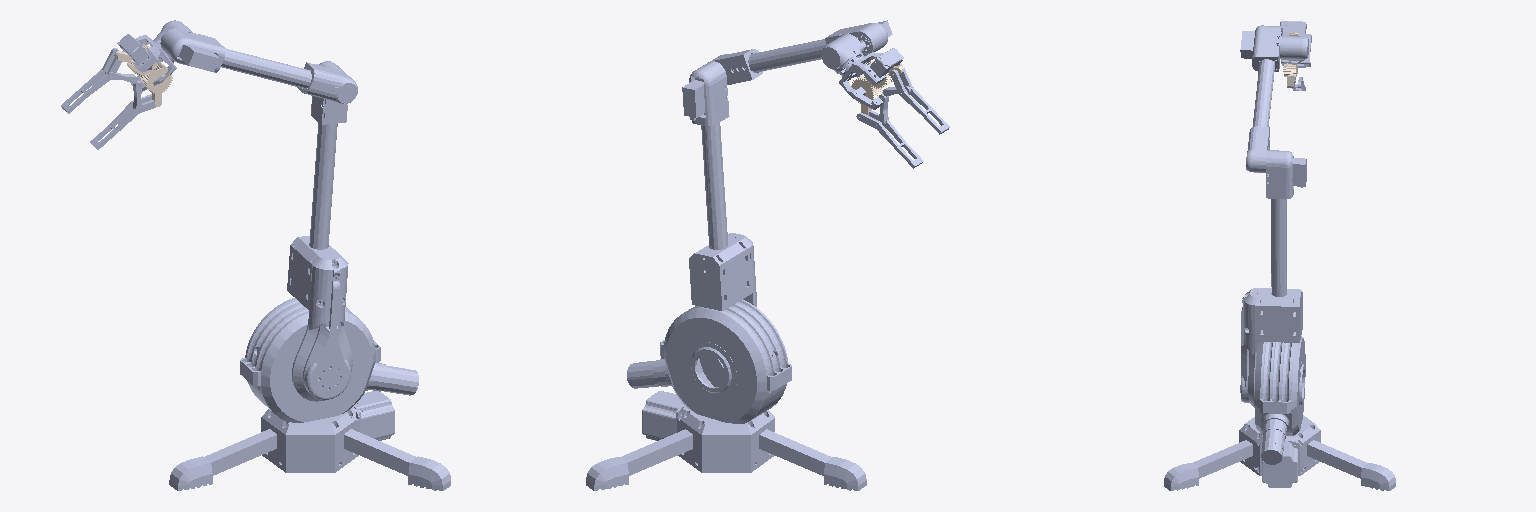
robot.urdf — urdf gripper.SLDASM:
<?xml version="1.0" encoding="utf-8"?>
<!-- This URDF was automatically created by SolidWorks to URDF Exporter! Originally created by Stephen Brawner (brawner@gmail.com) 
     Commit Version: 1.6.0-4-g7f85cfe  Build Version: 1.6.7995.38578
     For more information, please see http://wiki.ros.org/sw_urdf_exporter -->
<robot
  name="urdf gripper.SLDASM">
  <link
    name="base_link">
    <inertial>
      <origin
        xyz="0.0620154234110682 0.0287828530200332 0.0194399840557853"
        rpy="0 0 0" />
      <mass
        value="0.814654269422783" />
      <inertia
        ixx="0.00321225759807019"
        ixy="-5.9496387243799E-05"
        ixz="-4.09310030216178E-06"
        iyy="0.00681091711547534"
        iyz="1.70805052077515E-07"
        izz="0.00410985447956931" />
    </inertial>
    <visual>
      <origin
        xyz="0 0 0"
        rpy="0 0 0" />
      <geometry>
        <mesh
          filename="package://urdf gripper.SLDASM/meshes/base_link.STL" />
      </geometry>
      <material
        name="">
        <color
          rgba="0.792156862745098 0.819607843137255 0.933333333333333 1" />
      </material>
    </visual>
    <collision>
      <origin
        xyz="0 0 0"
        rpy="0 0 0" />
      <geometry>
        <mesh
          filename="package://urdf gripper.SLDASM/meshes/base_link.STL" />
      </geometry>
    </collision>
  </link>
  <link
    name="1">
    <inertial>
      <origin
        xyz="0.0194962583691794 0.0112262544264941 0.0781135118561607"
        rpy="0 0 0" />
      <mass
        value="0.355121622058812" />
      <inertia
        ixx="0.00125603548903335"
        ixy="-0.000555249040566052"
        ixz="0.000259680766926655"
        iyy="0.00189659691039308"
        iyz="0.000150449785747728"
        izz="0.00165493754981047" />
    </inertial>
    <visual>
      <origin
        xyz="0 0 0"
        rpy="0 0 0" />
      <geometry>
        <mesh
          filename="package://urdf gripper.SLDASM/meshes/1.STL" />
      </geometry>
      <material
        name="">
        <color
          rgba="0.792156862745098 0.819607843137255 0.933333333333333 1" />
      </material>
    </visual>
    <collision>
      <origin
        xyz="0 0 0"
        rpy="0 0 0" />
      <geometry>
        <mesh
          filename="package://urdf gripper.SLDASM/meshes/1.STL" />
      </geometry>
    </collision>
  </link>
  <joint
    name="1"
    type="continuous">
    <origin
      xyz="0.045435 -0.019492 0.042792"
      rpy="0 0 -0.61352" />
    <parent
      link="base_link" />
    <child
      link="1" />
    <axis
      xyz="0 0 1" />
  </joint>
  <link
    name="2">
    <inertial>
      <origin
        xyz="0.0321920814941268 0.0387535870617787 0.129834830455656"
        rpy="0 0 0" />
      <mass
        value="0.5141596032097" />
      <inertia
        ixx="0.00180794772670246"
        ixy="7.74766953047944E-05"
        ixz="-0.000644858964815463"
        iyy="0.00201848712129936"
        iyz="3.95263323492947E-05"
        izz="0.000642845309446029" />
    </inertial>
    <visual>
      <origin
        xyz="0 0 0"
        rpy="0 0 0" />
      <geometry>
        <mesh
          filename="package://urdf gripper.SLDASM/meshes/2.STL" />
      </geometry>
      <material
        name="">
        <color
          rgba="0.792156862745098 0.819607843137255 0.933333333333333 1" />
      </material>
    </visual>
    <collision>
      <origin
        xyz="0 0 0"
        rpy="0 0 0" />
      <geometry>
        <mesh
          filename="package://urdf gripper.SLDASM/meshes/2.STL" />
      </geometry>
    </collision>
  </link>
  <joint
    name="2"
    type="continuous">
    <origin
      xyz="0 0 0.0930581318626029"
      rpy="0.2216951 -0.3638891 3.1006432" />
    <parent
      link="1" />
    <child
      link="2" />
    <axis
      xyz="0.500000000000005 -0.866025403784436 0" />
  </joint>
  <link
    name="3">
    <inertial>
      <origin
        xyz="0.160285344474754 0.0390539188056747 -0.0327831724704579"
        rpy="0 0 0" />
      <mass
        value="0.14827404337076" />
      <inertia
        ixx="5.33432191779831E-05"
        ixy="-3.05053977914032E-06"
        ixz="3.81633167508738E-05"
        iyy="0.000225521082513347"
        iyz="5.28306103912809E-07"
        izz="0.000231079195924107" />
    </inertial>
    <visual>
      <origin
        xyz="0 0 0"
        rpy="0 0 0" />
      <geometry>
        <mesh
          filename="package://urdf gripper.SLDASM/meshes/3.STL" />
      </geometry>
      <material
        name="">
        <color
          rgba="0.792156862745098 0.819607843137255 0.933333333333333 1" />
      </material>
    </visual>
    <collision>
      <origin
        xyz="0 0 0"
        rpy="0 0 0" />
      <geometry>
        <mesh
          filename="package://urdf gripper.SLDASM/meshes/3.STL" />
      </geometry>
    </collision>
  </link>
  <joint
    name="3"
    type="continuous">
    <origin
      xyz="0.118562532535821 0.0684521100753607 0.376872204592206"
      rpy="0 -0.205260 0.5235988" />
    <parent
      link="2" />
    <child
      link="3" />
    <axis
      xyz="0 -1 0" />
  </joint>
  <link
    name="4">
    <inertial>
      <origin
        xyz="-0.0166600808604377 -0.0168893417036797 -0.0319801711897452"
        rpy="0 0 0" />
      <mass
        value="0.0891556465215413" />
      <inertia
        ixx="3.13551829377154E-05"
        ixy="1.6350227266906E-06"
        ixz="1.35305414743983E-06"
        iyy="2.83484289854805E-05"
        iyz="1.86415161383612E-07"
        izz="3.20496829632816E-05" />
    </inertial>
    <visual>
      <origin
        xyz="0 0 0"
        rpy="0 0 0" />
      <geometry>
        <mesh
          filename="package://urdf gripper.SLDASM/meshes/4.STL" />
      </geometry>
      <material
        name="">
        <color
          rgba="0.792156862745098 0.819607843137255 0.933333333333333 1" />
      </material>
    </visual>
    <collision>
      <origin
        xyz="0 0 0"
        rpy="0 0 0" />
      <geometry>
        <mesh
          filename="package://urdf gripper.SLDASM/meshes/4.STL" />
      </geometry>
    </collision>
  </link>
  <joint
    name="4"
    type="continuous">
    <origin
      xyz="0.23364964353366 0 -0.04785492740141"
      rpy="0 -0.917216 0" />
    <parent
      link="3" />
    <child
      link="4" />
    <axis
      xyz="0 -1 0" />
  </joint>
  <link
    name="left_link">
    <inertial>
      <origin
        xyz="-0.000469947739679344 0.0174936888359443 -0.0029999999999992"
        rpy="0 0 0" />
      <mass
        value="0.00336762222486258" />
      <inertia
        ixx="6.27470613399457E-07"
        ixy="1.55947433705621E-08"
        ixz="1.32348898008484E-23"
        iyy="4.73790672083763E-08"
        iyz="-6.15422375739453E-22"
        izz="6.1872264352679E-07" />
    </inertial>
    <visual>
      <origin
        xyz="0 0 0"
        rpy="0 0 0" />
      <geometry>
        <mesh
          filename="package://urdf gripper.SLDASM/meshes/left_link.STL" />
      </geometry>
      <material
        name="">
        <color
          rgba="0.792156862745098 0.819607843137255 0.933333333333333 1" />
      </material>
    </visual>
    <collision>
      <origin
        xyz="0 0 0"
        rpy="0 0 0" />
      <geometry>
        <mesh
          filename="package://urdf gripper.SLDASM/meshes/left_link.STL" />
      </geometry>
    </collision>
  </link>
  <joint
    name="left_joint"
    type="continuous">
    <origin
      xyz="-0.039631 0 -0.070896"
      rpy="-1.5708 -0.41059 0" />
    <parent
      link="4" />
    <child
      link="left_link" />
    <axis
      xyz="0 0 1" />
  </joint>
  <link
    name="right_link">
    <inertial>
      <origin
        xyz="4.44089209850063E-15 -0.0174999999999941 0.00299999999999842"
        rpy="0 0 0" />
      <mass
        value="0.00336762222486259" />
      <inertia
        ixx="6.27889548162521E-07"
        ixy="1.11834818817169E-21"
        ixz="1.98523347012727E-23"
        iyy="4.69601324453143E-08"
        iyz="-4.11108764438855E-22"
        izz="6.18722643526792E-07" />
    </inertial>
    <visual>
      <origin
        xyz="0 0 0"
        rpy="0 0 0" />
      <geometry>
        <mesh
          filename="package://urdf gripper.SLDASM/meshes/right_link.STL" />
      </geometry>
      <material
        name="">
        <color
          rgba="0.792156862745098 0.819607843137255 0.933333333333333 1" />
      </material>
    </visual>
    <collision>
      <origin
        xyz="0 0 0"
        rpy="0 0 0" />
      <geometry>
        <mesh
          filename="package://urdf gripper.SLDASM/meshes/right_link.STL" />
      </geometry>
    </collision>
  </link>
  <joint
    name="right_joint"
    type="continuous">
    <origin
      xyz="-0.049644 0 -0.064283"
      rpy="1.5708 1.5536 0" />
    <parent
      link="4" />
    <child
      link="right_link" />
    <axis
      xyz="0 0 1" />
  </joint>
  <link
    name="left_gear">
    <inertial>
      <origin
        xyz="-0.0026795656578391 9.41469124882133E-14 -0.00283964882715954"
        rpy="0 0 0" />
      <mass
        value="0.0208170455983242" />
      <inertia
        ixx="4.74146880578324E-06"
        ixy="1.37642853928824E-21"
        ixz="-1.89418670297643E-08"
        iyy="3.75851791717856E-06"
        iyz="-8.5232690317464E-21"
        izz="2.19540725542138E-06" />
    </inertial>
    <visual>
      <origin
        xyz="0 0 0"
        rpy="0 0 0" />
      <geometry>
        <mesh
          filename="package://urdf gripper.SLDASM/meshes/left_gear.STL" />
      </geometry>
      <material
        name="">
        <color
          rgba="1 0.949019607843137 0.909803921568627 1" />
      </material>
    </visual>
    <collision>
      <origin
        xyz="0 0 0"
        rpy="0 0 0" />
      <geometry>
        <mesh
          filename="package://urdf gripper.SLDASM/meshes/left_gear.STL" />
      </geometry>
    </collision>
  </link>
  <joint
    name="left_gear joint"
    type="continuous">
    <origin
      xyz="-0.015841 0 -0.056649"
      rpy="-0.38374 0 1.5708" />
    <parent
      link="4" />
    <child
      link="left_gear" />
    <axis
      xyz="1 0 0" />
  </joint>
  <link
    name="left_flange_link">
    <inertial>
      <origin
        xyz="0.00767435122711868 0.0771367226411808 0.015000001722807"
        rpy="0 0 0" />
      <mass
        value="0.00826543780479247" />
      <inertia
        ixx="8.37291786400787E-06"
        ixy="-5.42084452593398E-07"
        ixz="-7.71139546922056E-15"
        iyy="6.05144730729735E-07"
        iyz="-2.58716812308386E-13"
        izz="8.0691291860278E-06" />
    </inertial>
    <visual>
      <origin
        xyz="0 0 0"
        rpy="0 0 0" />
      <geometry>
        <mesh
          filename="package://urdf gripper.SLDASM/meshes/left_flange_link.STL" />
      </geometry>
      <material
        name="">
        <color
          rgba="0.792156862745098 0.819607843137255 0.933333333333333 1" />
      </material>
    </visual>
    <collision>
      <origin
        xyz="0 0 0"
        rpy="0 0 0" />
      <geometry>
        <mesh
          filename="package://urdf gripper.SLDASM/meshes/left_flange_link.STL" />
      </geometry>
    </collision>
  </link>
  <joint
    name="left_flange_joint"
    type="revolute">
    <origin
      xyz="0.012 -0.028276 -0.014373"
      rpy="-1.5708 -0.9674 1.5708" />
    <parent
      link="left_gear" />
    <child
      link="left_flange_link" />
    <axis
      xyz="0 0 0" />
    <limit
      lower="0"
      upper="0"
      effort="0"
      velocity="0" />
  </joint>
  <link
    name="right_gear">
    <inertial>
      <origin
        xyz="0.00299999999999906 0.000235018102530349 -0.00268626920278137"
        rpy="0 0 0" />
      <mass
        value="0.0220238578526573" />
      <inertia
        ixx="4.81786570325031E-06"
        ixy="-8.20563167652603E-22"
        ixz="-1.85288457211878E-21"
        iyy="3.86576031906346E-06"
        iyz="1.36744377629716E-07"
        izz="2.31472851349092E-06" />
    </inertial>
    <visual>
      <origin
        xyz="0 0 0"
        rpy="0 0 0" />
      <geometry>
        <mesh
          filename="package://urdf gripper.SLDASM/meshes/right_gear.STL" />
      </geometry>
      <material
        name="">
        <color
          rgba="1 0.949019607843137 0.909803921568627 1" />
      </material>
    </visual>
    <collision>
      <origin
        xyz="0 0 0"
        rpy="0 0 0" />
      <geometry>
        <mesh
          filename="package://urdf gripper.SLDASM/meshes/right_gear.STL" />
      </geometry>
    </collision>
  </link>
  <joint
    name="right_gear_joint"
    type="continuous">
    <origin
      xyz="-0.045881 0 -0.03681"
      rpy="-1.6408 0 -1.5708" />
    <parent
      link="4" />
    <child
      link="right_gear" />
    <axis
      xyz="1 0 0" />
  </joint>
  <link
    name="right_flange_link">
    <inertial>
      <origin
        xyz="0.00861288716235192 0.0421496228005386 1.72273731391392E-09"
        rpy="0 0 0" />
      <mass
        value="0.00826543780464267" />
      <inertia
        ixx="8.37295282606807E-06"
        ixy="-5.41833899799247E-07"
        ixz="-7.71887826415572E-15"
        iyy="6.05109768626792E-07"
        iyz="-2.58708945384009E-13"
        izz="8.06912918599556E-06" />
    </inertial>
    <visual>
      <origin
        xyz="0 0 0"
        rpy="0 0 0" />
      <geometry>
        <mesh
          filename="package://urdf gripper.SLDASM/meshes/right_flange_link.STL" />
      </geometry>
      <material
        name="">
        <color
          rgba="0.792156862745098 0.819607843137255 0.933333333333333 1" />
      </material>
    </visual>
    <collision>
      <origin
        xyz="0 0 0"
        rpy="0 0 0" />
      <geometry>
        <mesh
          filename="package://urdf gripper.SLDASM/meshes/right_flange_link.STL" />
      </geometry>
    </collision>
  </link>
  <joint
    name="right_flange_joint"
    type="revolute">
    <origin
      xyz="0.003 0.0030505 -0.034867"
      rpy="-1.5708 -1.0572 1.5708" />
    <parent
      link="right_gear" />
    <child
      link="right_flange_link" />
    <axis
      xyz="0 0 0" />
    <limit
      lower="0"
      upper="0"
      effort="0"
      velocity="0" />
  </joint>
</robot>

--- What the picture shows (computed from the rendered views, not written in the file) ---
Views: 3 orthographic renders of the robot side by side, from view 1: azimuth 30°, elevation 25°; view 2: azimuth 150°, elevation 25°; view 3: azimuth 270°, elevation 25°.
Model urdf gripper.SLDASM with 11 links and 10 joints (2 revolute, 8 continuous), rooted at base_link, posed every joint at zero.
Visible links, largest first — view 1: 2, base_link, 1, 3, 4, left_flange_link, right_flange_link, right_gear; view 2: 1, base_link, 2, 3, 4, left_flange_link, right_flange_link; view 3: 2, base_link, 1, 3, 4.
Link boxes in pixels (x1,y1,x2,y2): 2: [287, 61, 352, 401]; base_link: [169, 391, 450, 490]; 1: [240, 298, 418, 422]; 3: [160, 28, 357, 103]; 4: [117, 20, 191, 91]; left_flange_link: [61, 48, 121, 113]; right_flange_link: [90, 94, 155, 149]; right_gear: [140, 62, 172, 106]; 1: [627, 299, 791, 423]; base_link: [586, 391, 866, 490]; 2: [682, 61, 756, 310]; 3: [708, 20, 892, 84]; 4: [821, 34, 903, 109]; left_flange_link: [890, 67, 949, 134]; right_flange_link: [856, 110, 923, 168]; 2: [1240, 150, 1306, 407]; base_link: [1164, 415, 1395, 490]; 1: [1254, 336, 1305, 464]; 3: [1240, 25, 1282, 172]; 4: [1280, 21, 1311, 67].
Bounding box of the posed robot: 0.5046 × 0.3678 × 0.6607 m (x, y, z).
11 mesh visuals loaded from 11 distinct referenced files (11 binary STL).
